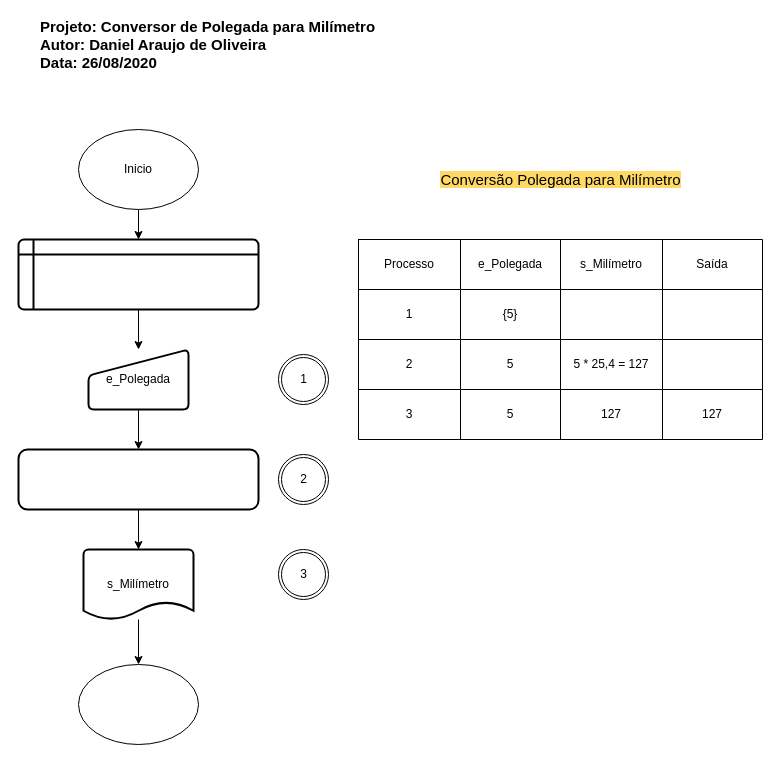
The diagram is 780 pixels wide and 762 high, and some of its shapes have lost their labels. The box of each missing label's shape, as (x1, y1, x2, y2) in pixels:
e_Polegada, s_Milímetro: (17, 238, 259, 310)
Fim: (78, 664, 198, 744)
s_Milímetro = e_Polegada * 25,4: (17, 448, 259, 510)
